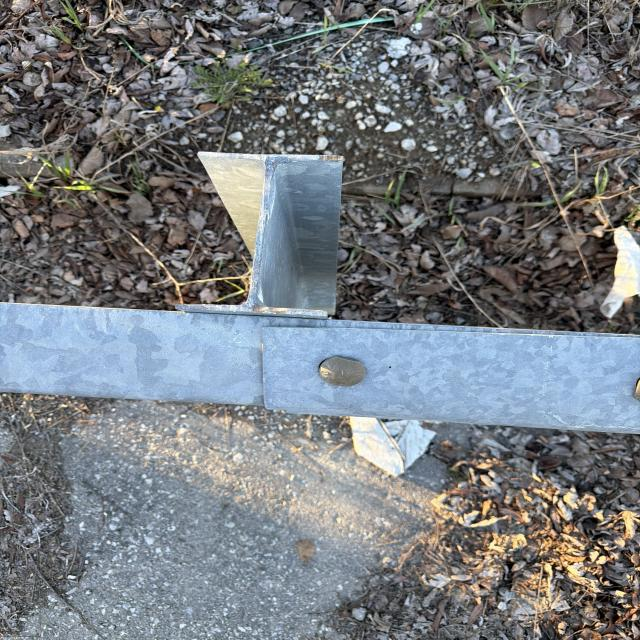Guard rail: (16, 177, 628, 415)
